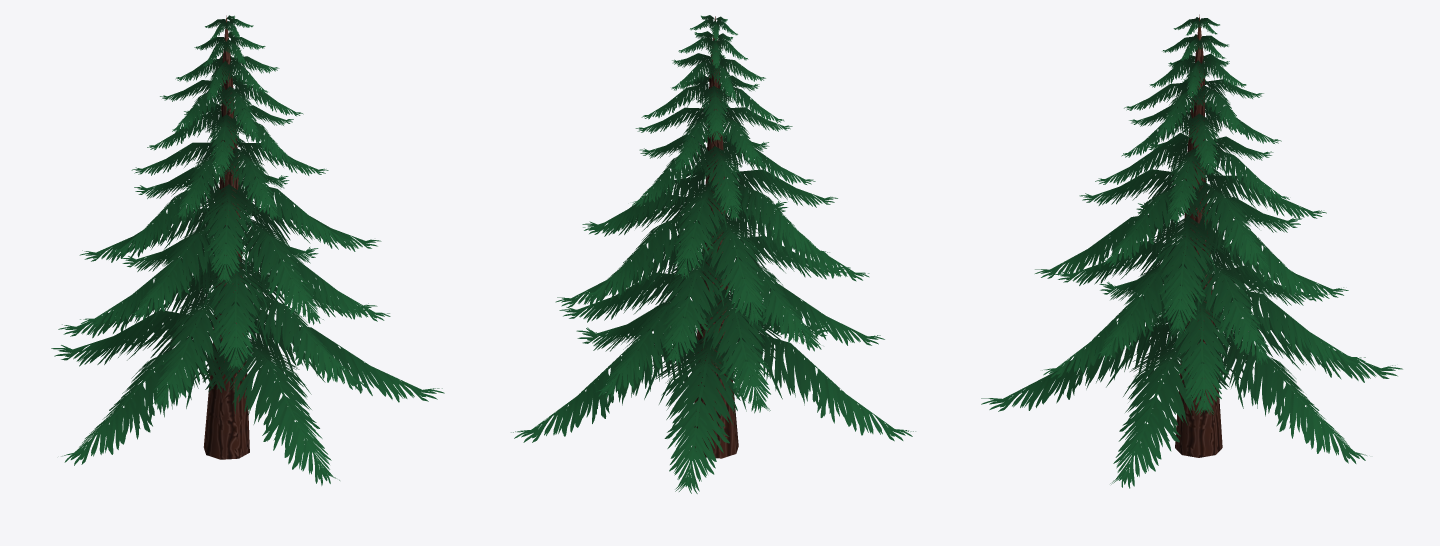
The model's file is pineTree01.obj.
3 views of the same model, side by side, from view 1: azimuth 30°, elevation 25°; view 2: azimuth 150°, elevation 25°; view 3: azimuth 270°, elevation 25° (orthographic).
Visible parts, largest first — view 1: leaves_Plane, bark_Circle; view 2: leaves_Plane, bark_Circle; view 3: leaves_Plane, bark_Circle.
Part boxes in pixels (left/top/right/bottom): leaves_Plane: left=51, top=15, right=444, bottom=485; bark_Circle: left=203, top=15, right=249, bottom=459; leaves_Plane: left=511, top=15, right=915, bottom=493; bark_Circle: left=694, top=16, right=738, bottom=458; leaves_Plane: left=981, top=17, right=1402, bottom=488; bark_Circle: left=1175, top=14, right=1222, bottom=457.
Size of the model in its own units: 3.33 by 3.53 by 3.38.
